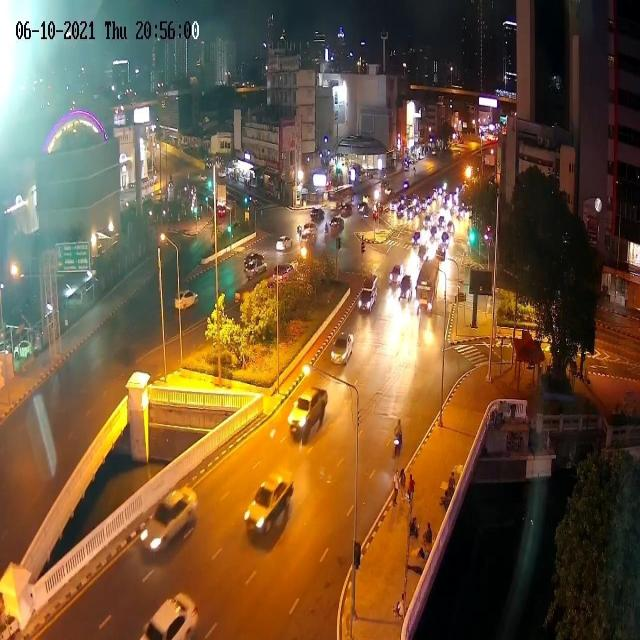Bus: (415, 259, 440, 316)
Car: (240, 469, 299, 550), (140, 484, 198, 556), (140, 590, 198, 638), (287, 385, 327, 441), (358, 273, 379, 314), (331, 332, 354, 366), (269, 262, 297, 286), (244, 251, 267, 279), (174, 289, 198, 310), (326, 216, 344, 238), (398, 275, 413, 301), (389, 264, 403, 288), (300, 223, 317, 242), (276, 235, 292, 252), (309, 207, 325, 223), (339, 201, 353, 218), (357, 200, 370, 216), (380, 184, 392, 201), (411, 230, 422, 247), (436, 244, 446, 260), (396, 202, 406, 218), (217, 204, 227, 219)
